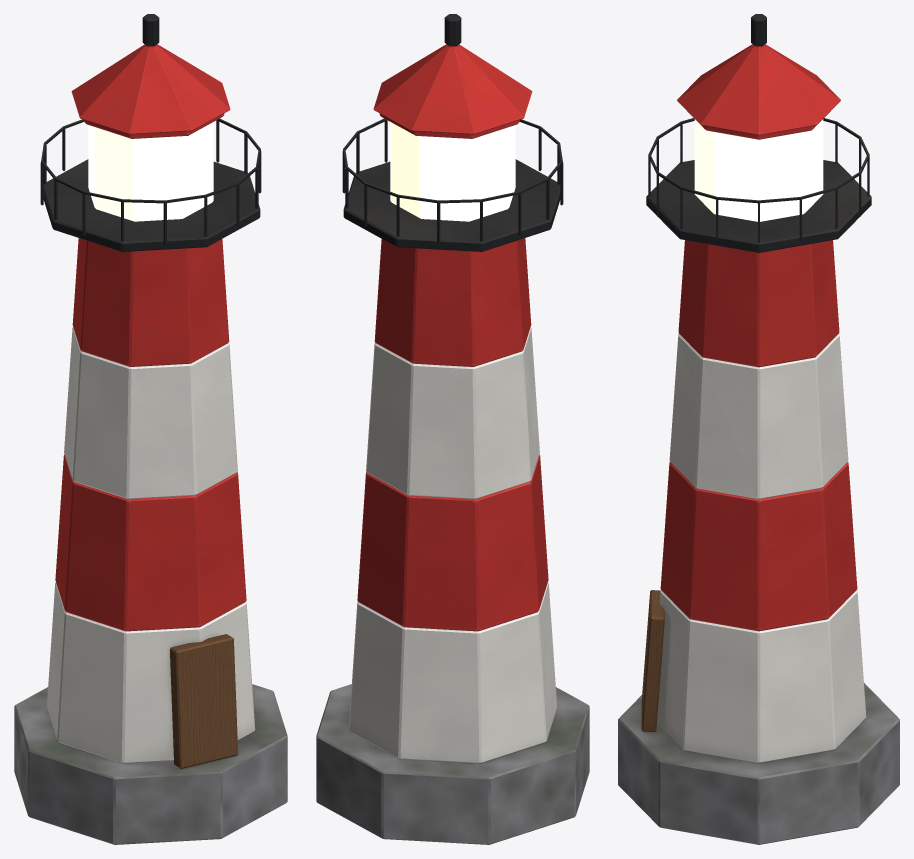
File: fyr_tex.glb
The picture shows the model from 3 angles, left to right: view 1: azimuth 30°, elevation 25°; view 2: azimuth 150°, elevation 25°; view 3: azimuth 270°, elevation 25°; orthographic projection.
Parts seen in each view (by area): view 1: fyr; view 2: fyr; view 3: fyr.
Boxes of the visible parts, x1,y1,x2,y2 form: fyr: (14, 14, 287, 844); fyr: (316, 14, 589, 844); fyr: (618, 14, 899, 844).
Bounding box in the file's own units: 3.78 × 11.4 × 3.78.
Materials: 6 (5 with a texture image).
